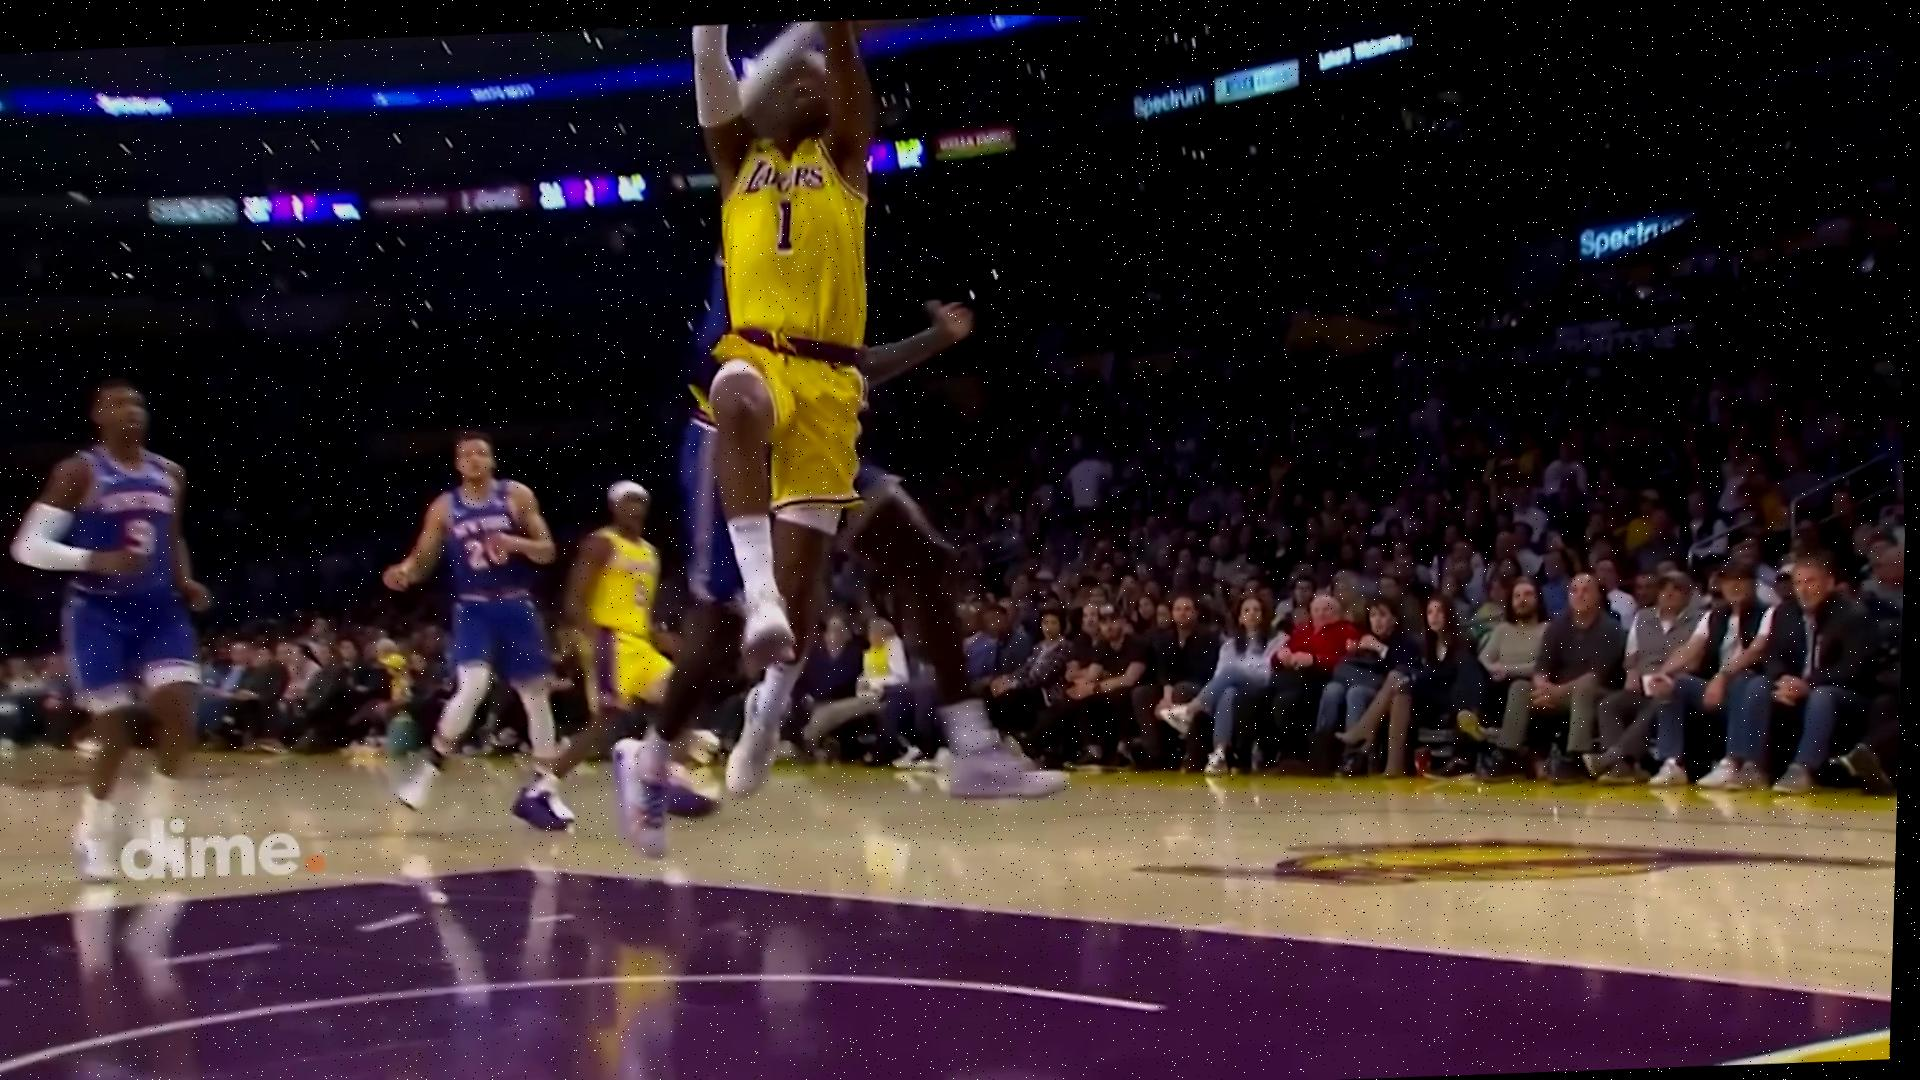foul: (576, 25, 1059, 906)
